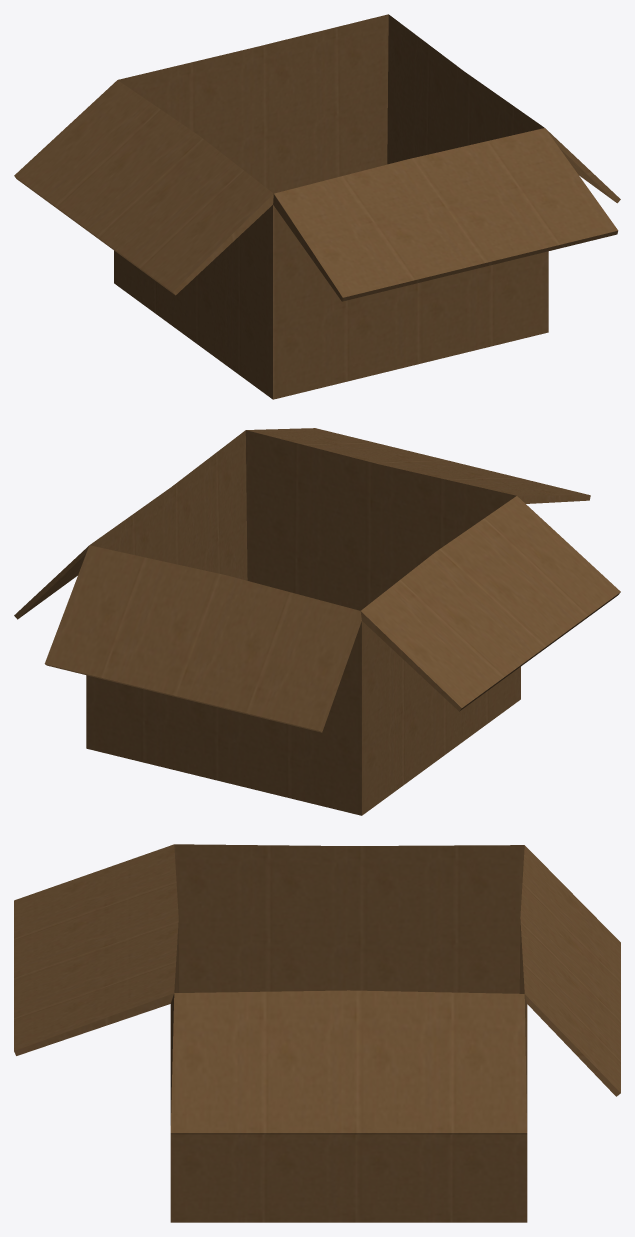
File: SM_box_cardboard.fbx
3 renders of one model, top to bottom at view 1: azimuth 30°, elevation 25°; view 2: azimuth 150°, elevation 25°; view 3: azimuth 270°, elevation 25°, orthographic. The views are drawn at different scales.
Visible parts, largest first — view 1: box; view 2: box; view 3: box.
Boxes of the visible parts, left/top/right/bottom form: box: left=14, top=14, right=620, bottom=399; box: left=14, top=428, right=620, bottom=815; box: left=14, top=844, right=620, bottom=1222.
Size of the model in its own units: 85.77 by 37.43 by 89.78.
